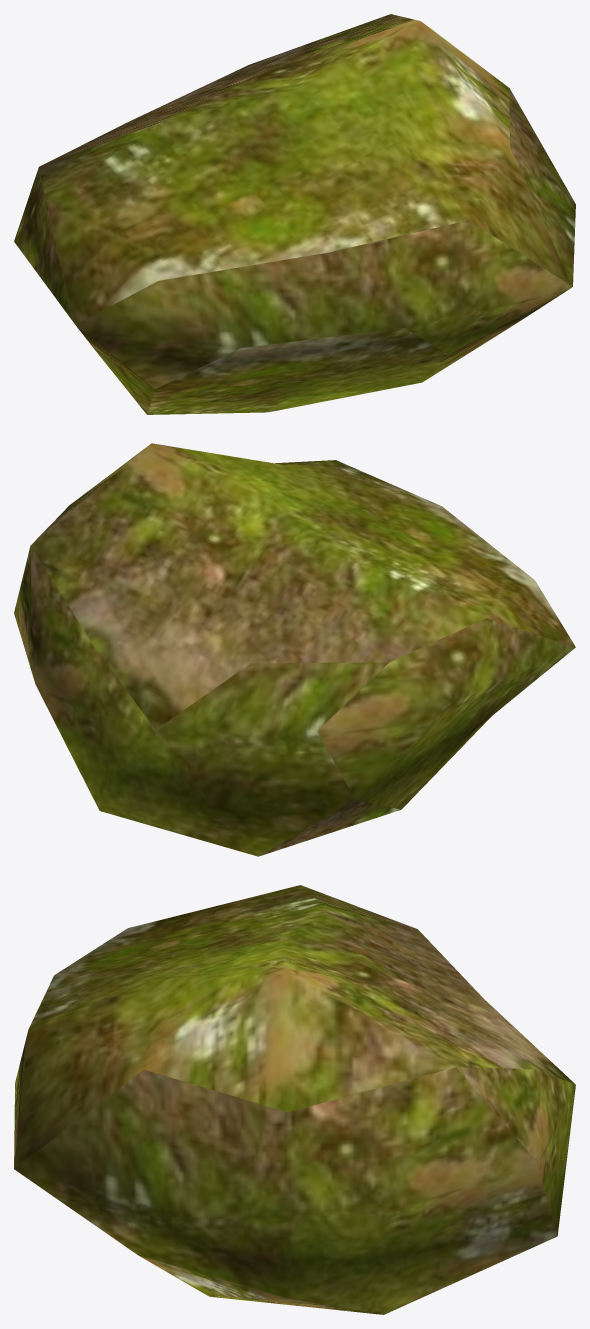
Rendered from rock_pebble.glb.
3 views of the same model, one above another, from view 1: azimuth 30°, elevation 25°; view 2: azimuth 150°, elevation 25°; view 3: azimuth 270°, elevation 25° (orthographic). The views are drawn at different scales.
Visible parts, largest first — view 1: rock_pebble; view 2: rock_pebble; view 3: rock_pebble.
Boxes of the visible parts, x1,y1,x2,y2 form: rock_pebble: (14, 14, 575, 414); rock_pebble: (14, 443, 575, 856); rock_pebble: (14, 885, 575, 1314).
Size of the model in its own units: 0.044 by 0.03 by 0.04.
1 material, 1 textured.
